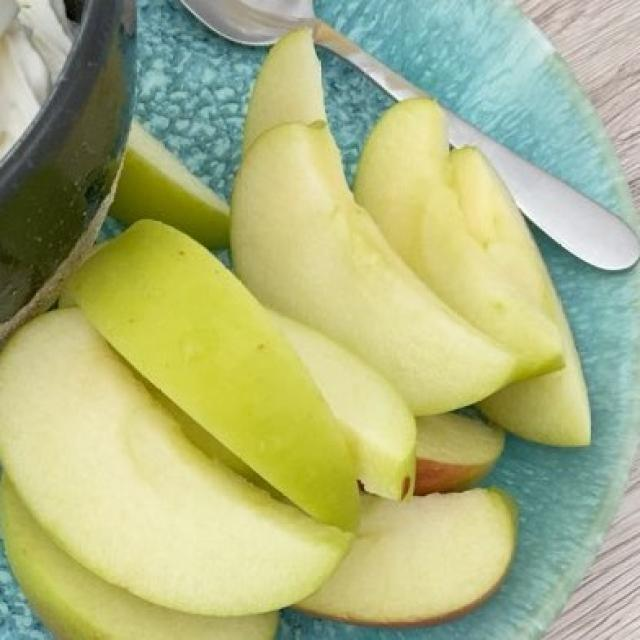apple: (6, 10, 585, 632)
